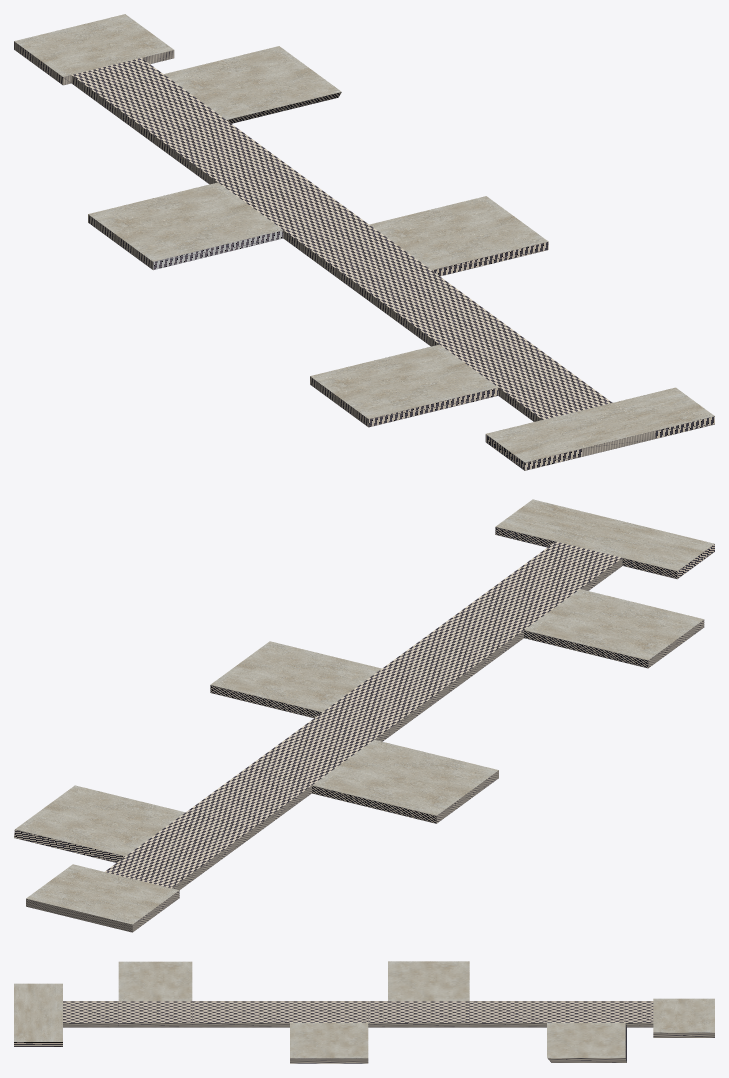
File: Floor.fbx
3 renders of one model, top to bottom at view 1: azimuth 30°, elevation 25°; view 2: azimuth 150°, elevation 25°; view 3: azimuth 270°, elevation 25°, orthographic. The views are drawn at different scales.
Parts seen in each view (by area): view 1: Cube; view 2: Cube; view 3: Cube.
Boxes of the visible parts, <box> form: Cube: <box>14,14,714,470</box>; Cube: <box>14,499,714,932</box>; Cube: <box>14,961,714,1063</box>.
Size of the model in its own units: 2329 by 58.79 by 7108.
2 materials, 2 textured.
